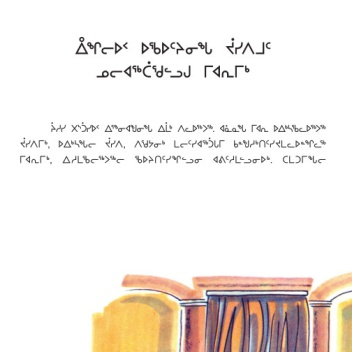inuktitut: (16, 149, 325, 166), (70, 32, 273, 56), (16, 134, 327, 149), (46, 117, 329, 133), (90, 58, 252, 82)
